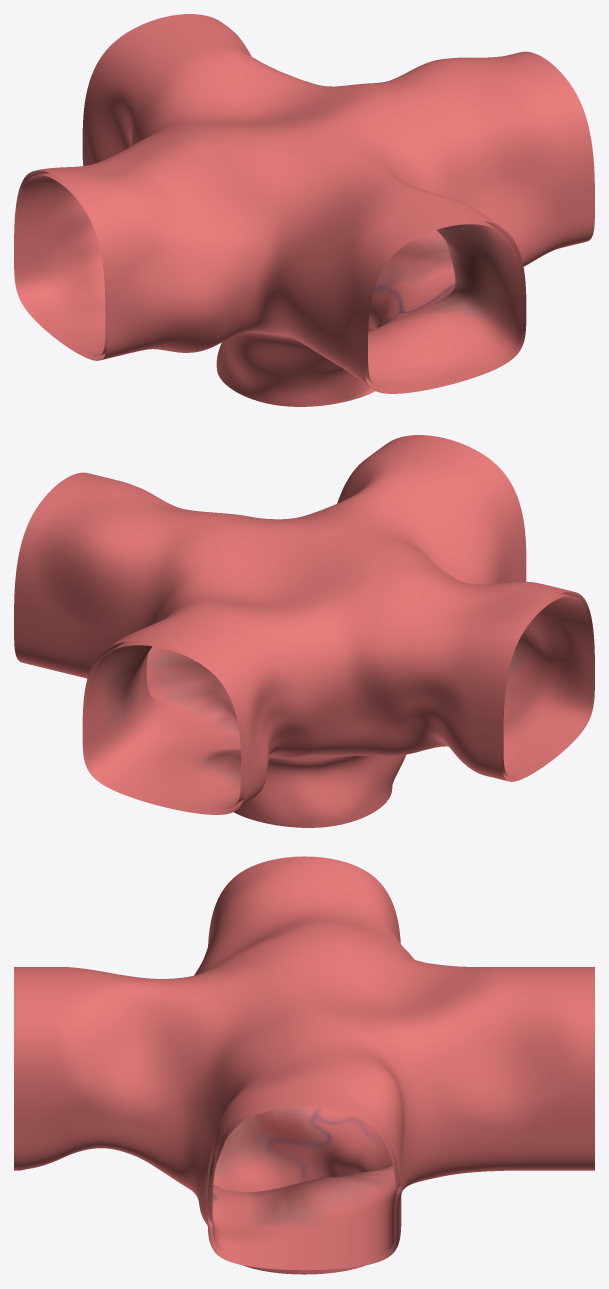
File: cave_crossroad_transit_down.fbx
3 renders of one model, top to bottom at view 1: azimuth 30°, elevation 25°; view 2: azimuth 150°, elevation 25°; view 3: azimuth 270°, elevation 25°, orthographic. The views are drawn at different scales.
Parts seen in each view (by area): view 1: cave_crossroad_transit_down; view 2: cave_crossroad_transit_down; view 3: cave_crossroad_transit_down.
Boxes of the visible parts, bbox=[...] form: cave_crossroad_transit_down: bbox=[14, 14, 594, 406]; cave_crossroad_transit_down: bbox=[14, 435, 594, 827]; cave_crossroad_transit_down: bbox=[14, 856, 594, 1274].
Size of the model in its own units: 600 by 298 by 600.
Materials: 1 (1 with a texture image).
